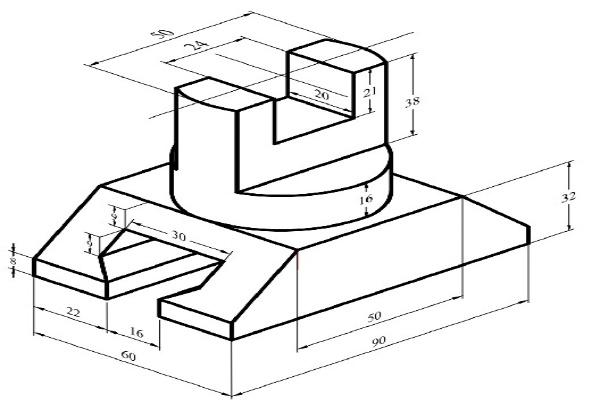dimensions: (144, 25, 179, 42), (367, 330, 392, 350), (115, 346, 139, 365), (183, 36, 209, 53), (559, 187, 582, 206), (313, 82, 333, 103), (365, 307, 386, 326), (65, 299, 83, 320), (402, 93, 422, 111), (170, 227, 188, 246), (101, 208, 122, 224), (357, 192, 378, 208), (131, 320, 145, 343), (82, 235, 98, 252), (362, 86, 379, 98), (7, 254, 20, 266), (35, 284, 42, 287)
